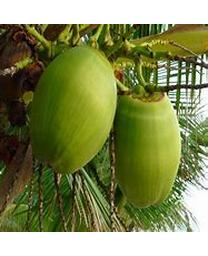coconut: (28, 46, 118, 174), (113, 87, 182, 209)
